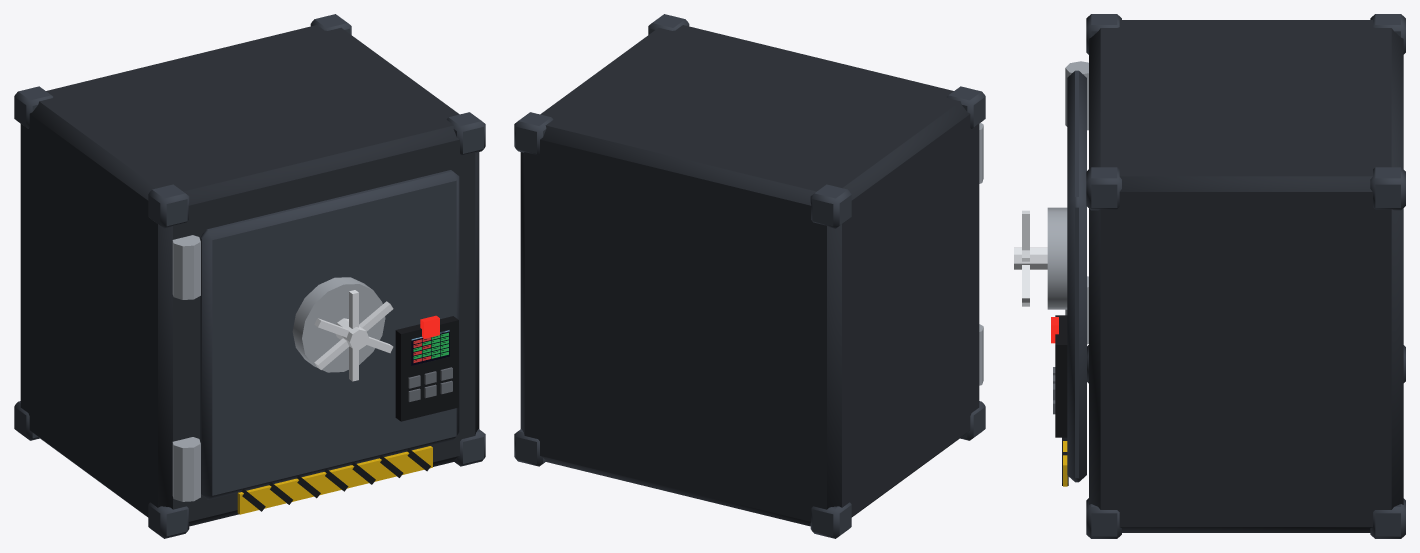
File: crate_vault_armoured.glb
3 views of the same model, side by side, from view 1: azimuth 30°, elevation 25°; view 2: azimuth 150°, elevation 25°; view 3: azimuth 270°, elevation 25° (orthographic). The views are drawn at different scales.
Visible parts, largest first — view 1: crate_vault_armoured; view 2: crate_vault_armoured; view 3: crate_vault_armoured.
Boxes of the visible parts, x1,y1,x2,y2 form: crate_vault_armoured: (14, 14, 485, 538); crate_vault_armoured: (514, 14, 985, 538); crate_vault_armoured: (1014, 14, 1405, 538).
Bounding box in the file's own units: 1.01 × 1.01 × 0.996.
9 materials, 1 textured.
